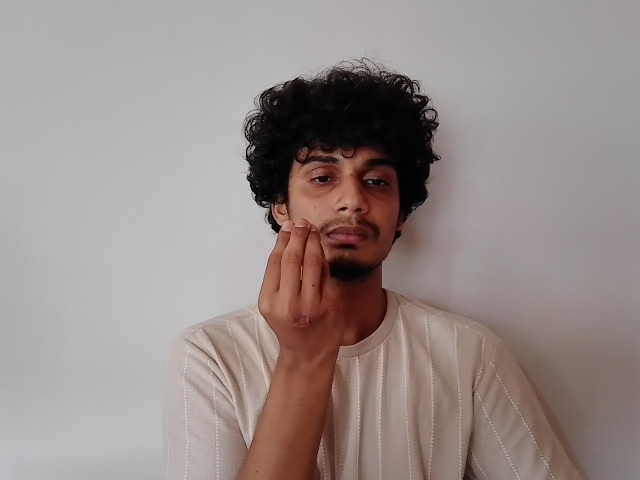eat: (258, 138, 407, 340)
